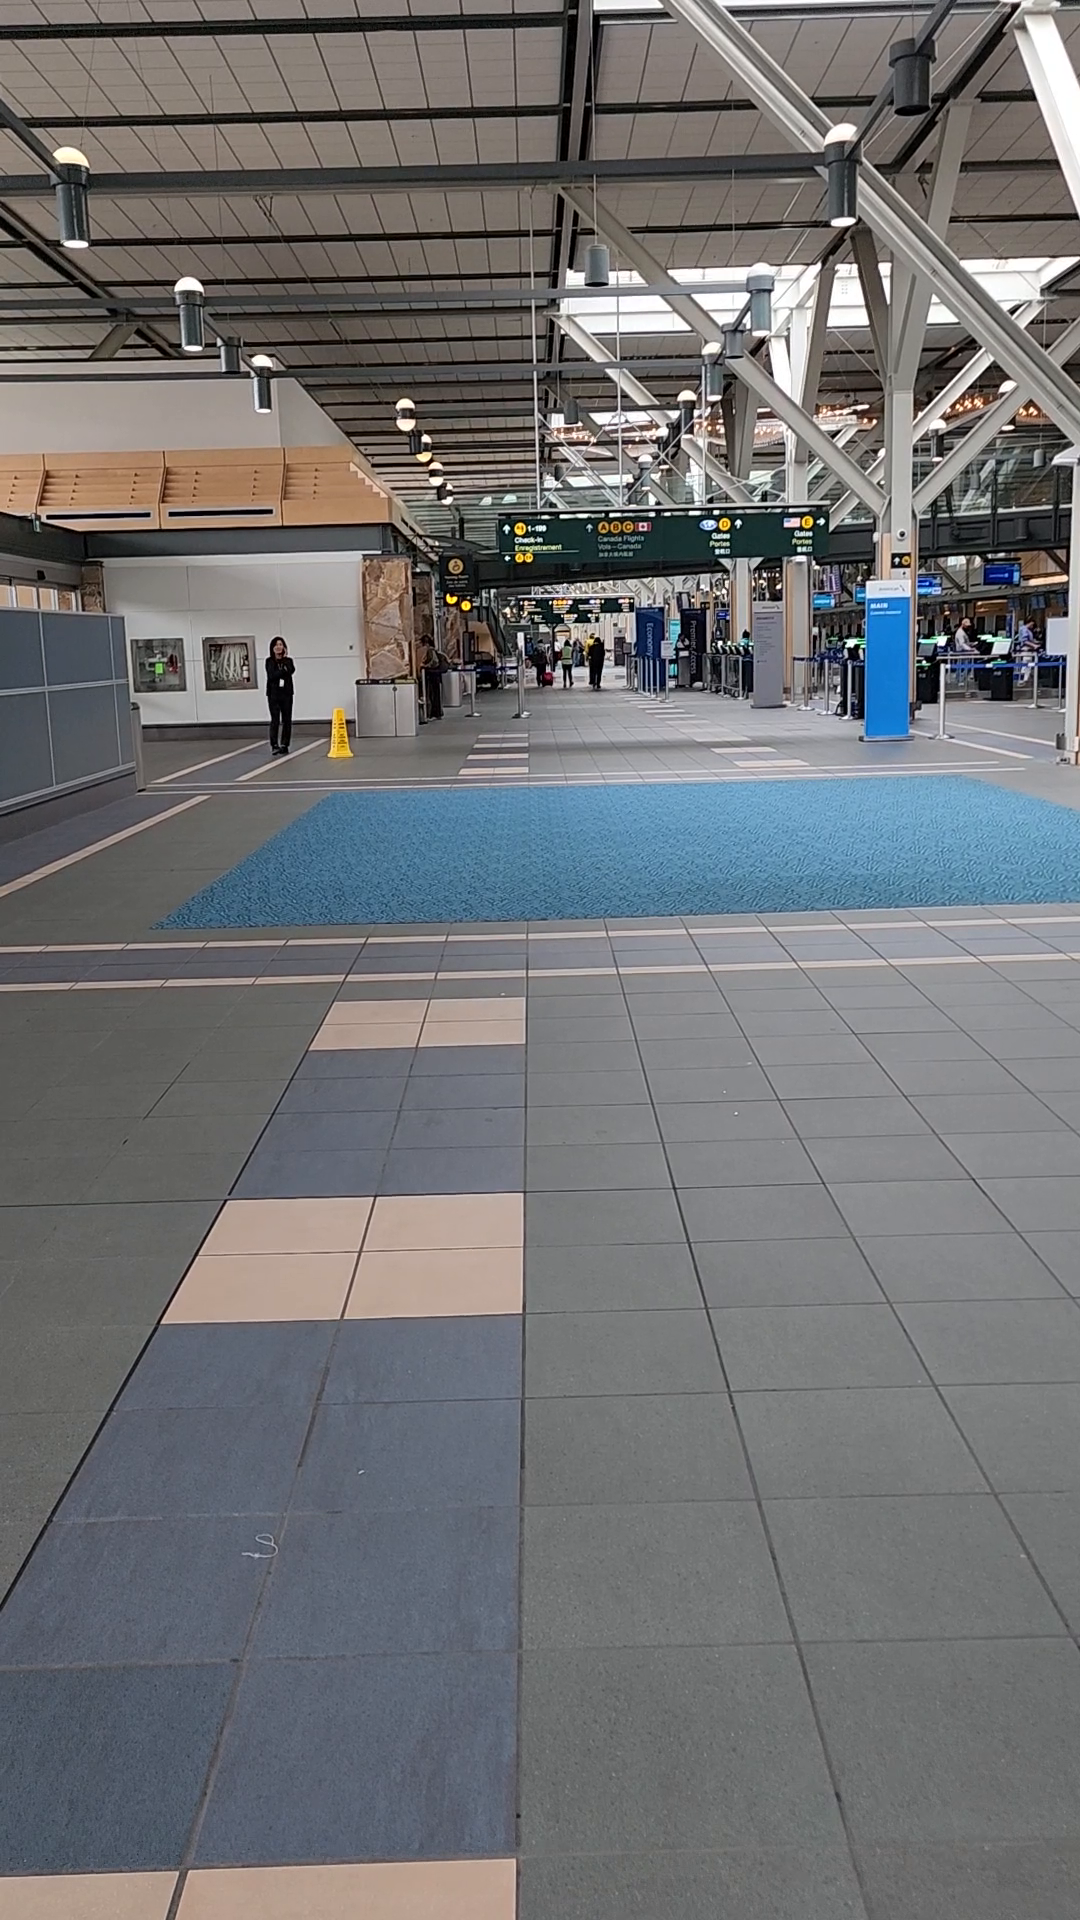Garbage: (239, 1524, 290, 1568)
